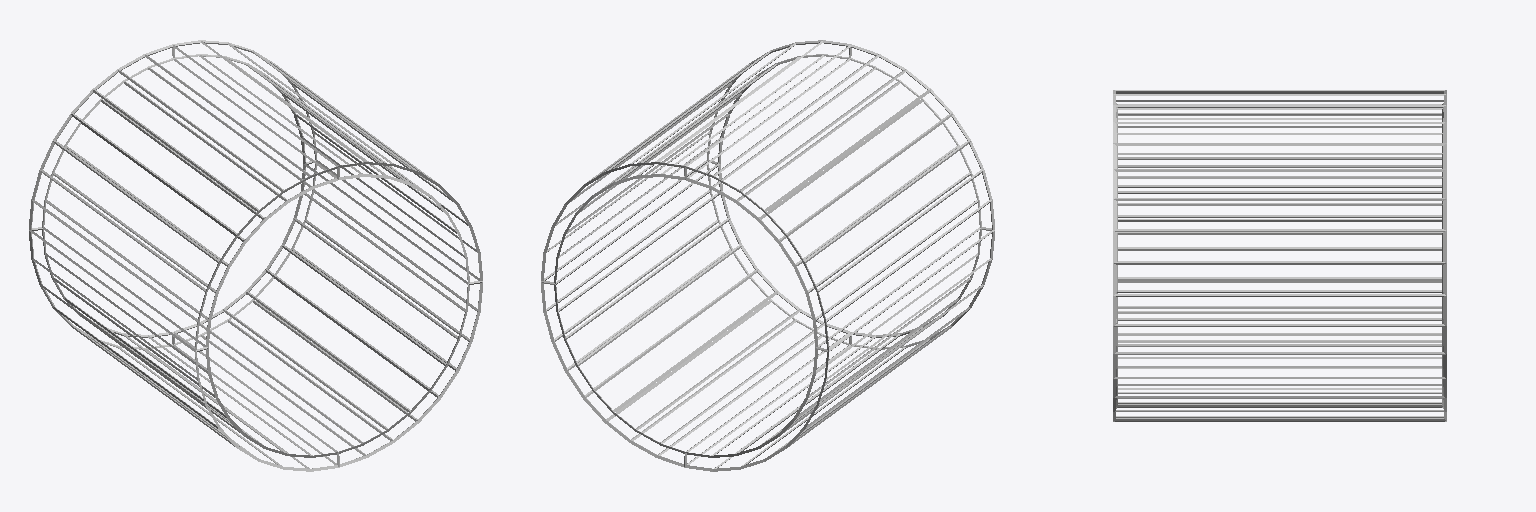
Rendered from CylinderHollow2SidesWireframe.obj.
3 renders of one model, left to right at view 1: azimuth 30°, elevation 25°; view 2: azimuth 150°, elevation 25°; view 3: azimuth 270°, elevation 25°, orthographic.
Visible parts, largest first — view 1: Cylinder.001_Cylinder.002; view 2: Cylinder.001_Cylinder.002; view 3: Cylinder.001_Cylinder.002.
Boxes of the visible parts, <box> form: Cylinder.001_Cylinder.002: <box>29,40,482,471</box>; Cylinder.001_Cylinder.002: <box>541,40,994,471</box>; Cylinder.001_Cylinder.002: <box>1113,90,1446,421</box>.
Bounding box in the file's own units: 200 × 200 × 200.